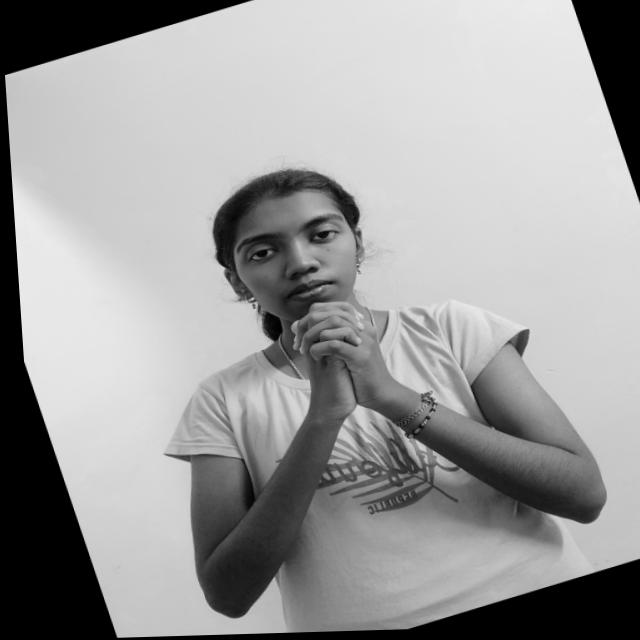Sorry: (231, 273, 441, 475)
